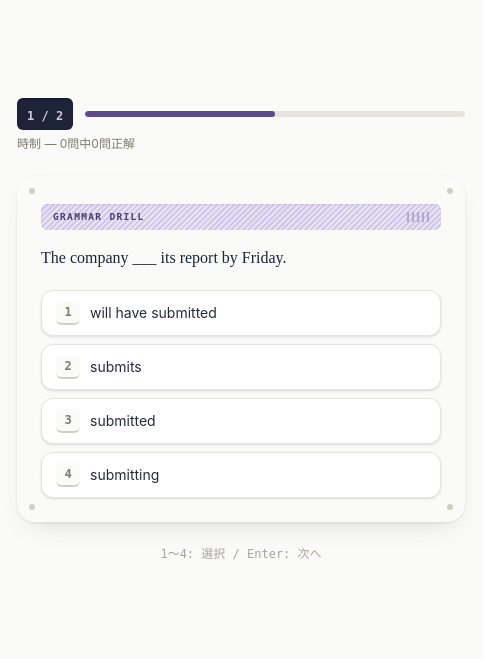
Test case: GrammarDrill › highlights the correct answer and the wrong pick, then shows the explanation
The width and height of the screenshot is (483, 659).
Expected: the text "The company ___ its report by Friday." is shown, [41, 249, 287, 266]
Expected: the text "未来完了形を使う。" is not shown
Click the button "2 submits" at (116, 367), box [41, 344, 441, 390]
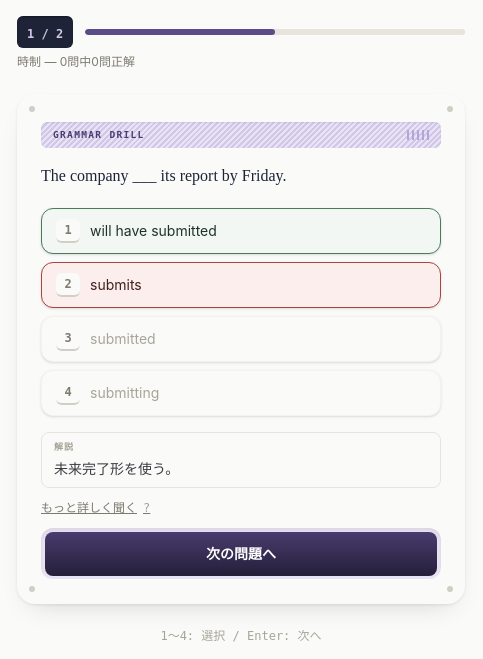
Result: the text "未来完了形を使う。" is shown at [54, 460, 179, 477]
